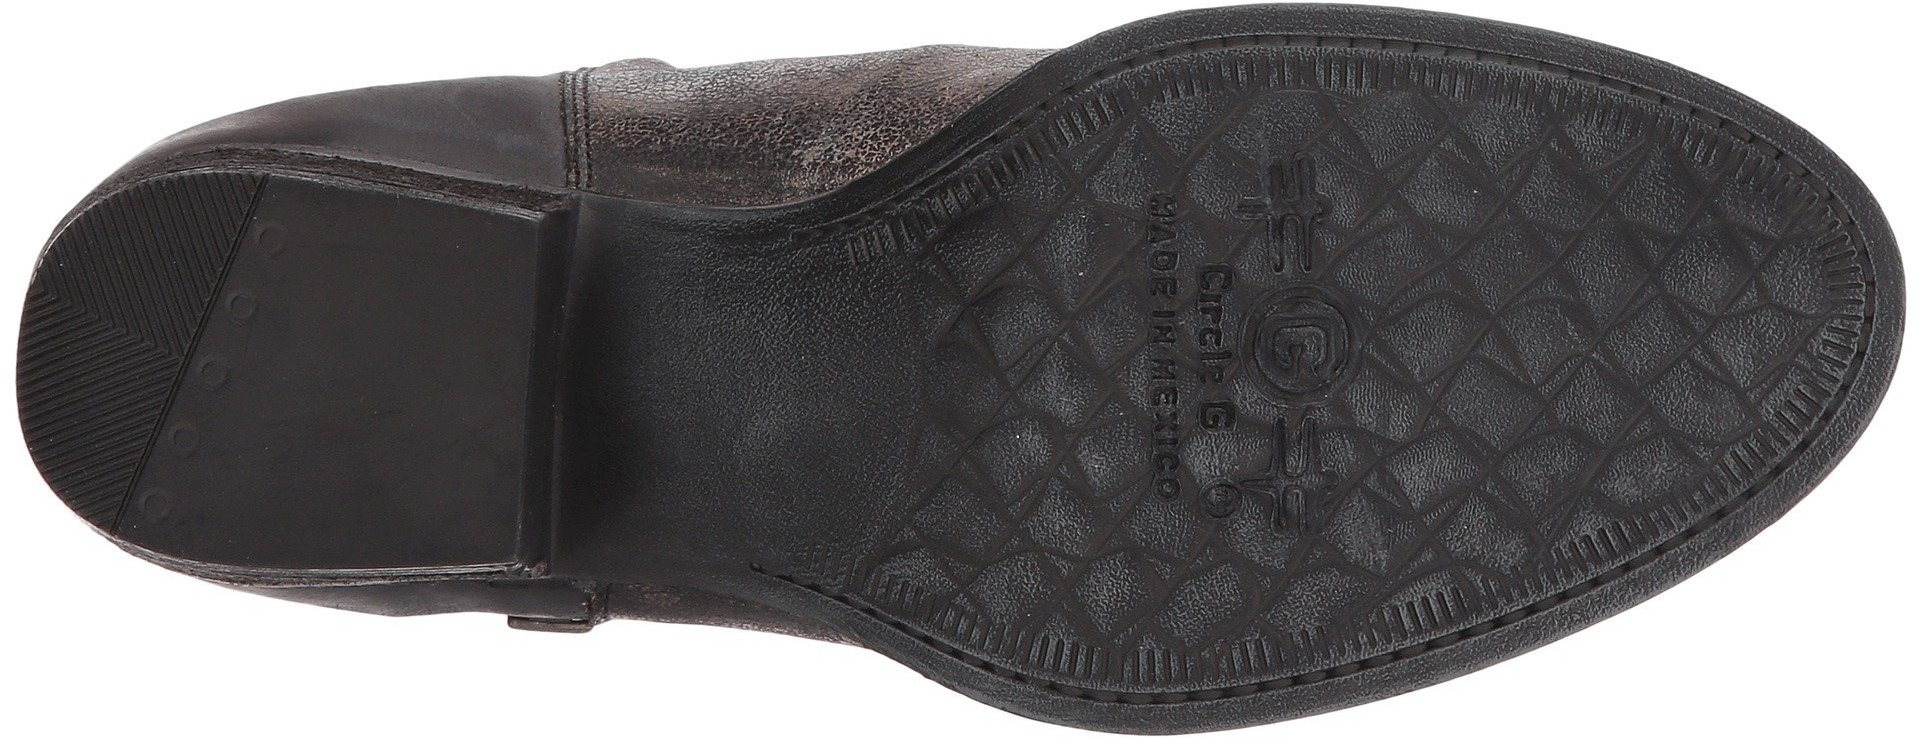chevron: (4, 246, 116, 322)
circle: (156, 206, 291, 348), (1240, 277, 1371, 406), (1145, 372, 1251, 529), (246, 215, 338, 284)
exclude: (111, 17, 1082, 222), (519, 130, 845, 632)
line: (156, 206, 291, 348), (21, 330, 159, 458)
other: (269, 304, 527, 524), (696, 290, 891, 465)
quad: (1363, 155, 1704, 472), (931, 274, 1138, 474)
text: (1240, 277, 1371, 406), (1145, 372, 1251, 529), (1142, 197, 1236, 367)
